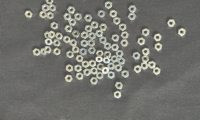nut: (178, 28, 187, 37), (134, 65, 142, 74), (128, 13, 137, 21), (115, 82, 124, 90), (76, 72, 84, 81), (168, 19, 176, 27), (154, 34, 162, 42), (149, 61, 157, 69), (142, 55, 150, 63), (133, 52, 141, 60), (138, 38, 146, 46), (129, 5, 137, 13), (114, 91, 122, 99), (105, 1, 113, 9), (119, 23, 127, 31), (121, 31, 129, 39), (116, 50, 124, 58), (118, 57, 126, 65), (115, 64, 123, 72), (112, 34, 120, 42), (111, 55, 119, 63), (104, 42, 112, 50), (91, 21, 99, 29), (88, 39, 96, 47), (85, 25, 93, 33), (85, 14, 93, 22), (81, 31, 89, 39), (76, 55, 84, 63), (65, 75, 73, 83), (72, 30, 80, 38), (69, 18, 77, 26), (64, 13, 72, 21), (65, 25, 73, 33), (33, 48, 41, 56), (45, 38, 53, 46), (156, 43, 163, 52), (143, 28, 150, 37), (66, 64, 73, 73), (75, 12, 82, 21), (154, 67, 161, 75), (141, 63, 149, 70), (143, 48, 150, 56), (122, 70, 129, 78), (110, 10, 117, 18), (114, 17, 121, 25), (121, 40, 129, 47), (98, 10, 105, 18), (108, 71, 115, 79), (100, 24, 108, 31), (96, 30, 104, 37), (102, 67, 110, 74), (103, 57, 111, 64), (104, 51, 112, 58), (100, 36, 107, 44), (96, 50, 104, 57), (97, 63, 104, 71), (97, 72, 104, 80), (91, 77, 98, 85), (91, 67, 98, 75), (89, 60, 96, 68), (88, 47, 96, 54), (89, 32, 96, 40), (84, 69, 91, 77), (81, 39, 88, 47), (80, 48, 87, 56), (75, 65, 82, 73), (67, 51, 74, 59), (72, 46, 80, 53), (70, 39, 77, 47), (68, 7, 76, 14), (64, 36, 71, 44), (56, 32, 63, 40), (53, 40, 61, 47), (54, 48, 61, 56), (44, 32, 52, 39), (51, 22, 58, 30), (47, 12, 54, 20), (49, 4, 56, 12), (25, 11, 33, 18), (42, 4, 49, 12), (40, 11, 47, 19), (112, 44, 119, 51), (108, 63, 115, 70), (96, 56, 103, 63), (82, 61, 89, 68), (45, 47, 52, 54), (49, 31, 55, 39), (41, 49, 47, 56), (46, 0, 54, 5)
